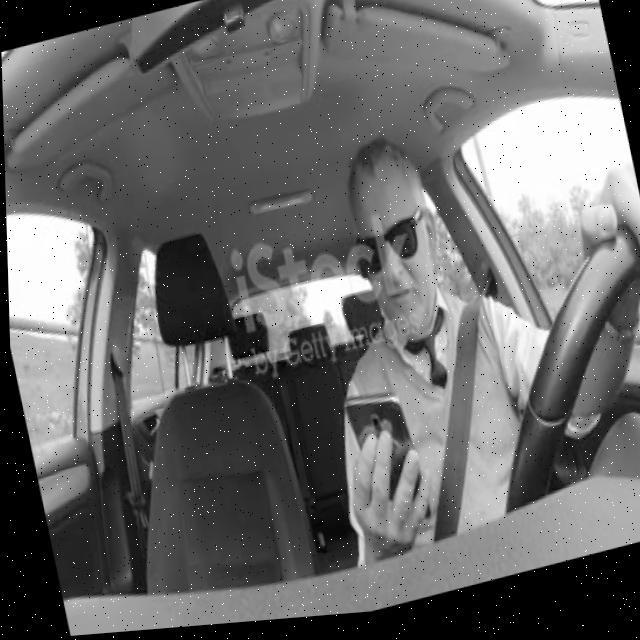PhoneCall: (336, 384, 432, 546)
